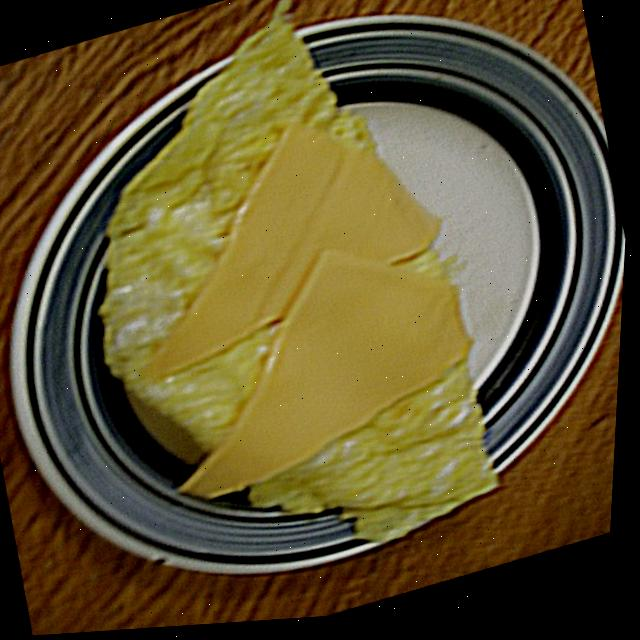鸡蛋料理: (15, 0, 596, 638)
